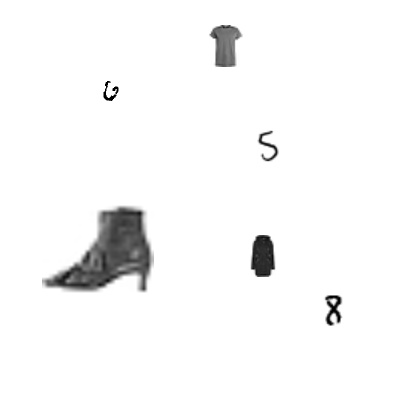5: (247, 125, 289, 167)
6: (96, 78, 124, 106)
8: (312, 288, 354, 330)
Ankle_boot: (42, 191, 154, 303)
Coat: (242, 235, 284, 277)
T-shirt/top: (205, 25, 247, 67)
